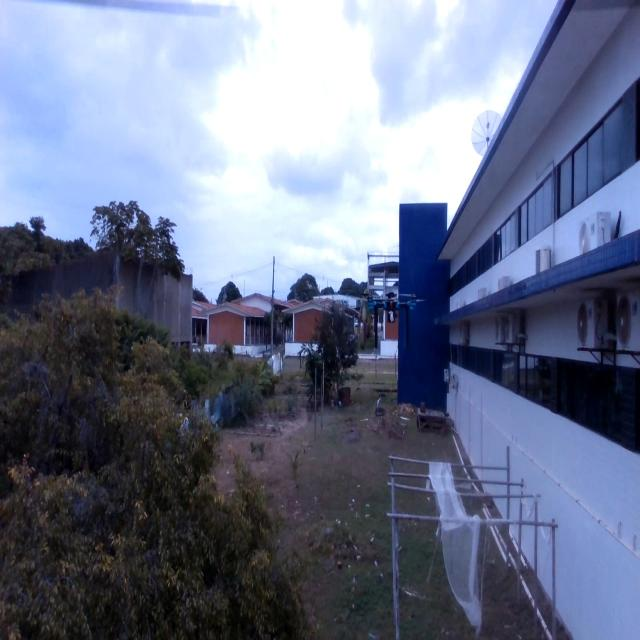-uav-: (366, 279, 418, 357)
